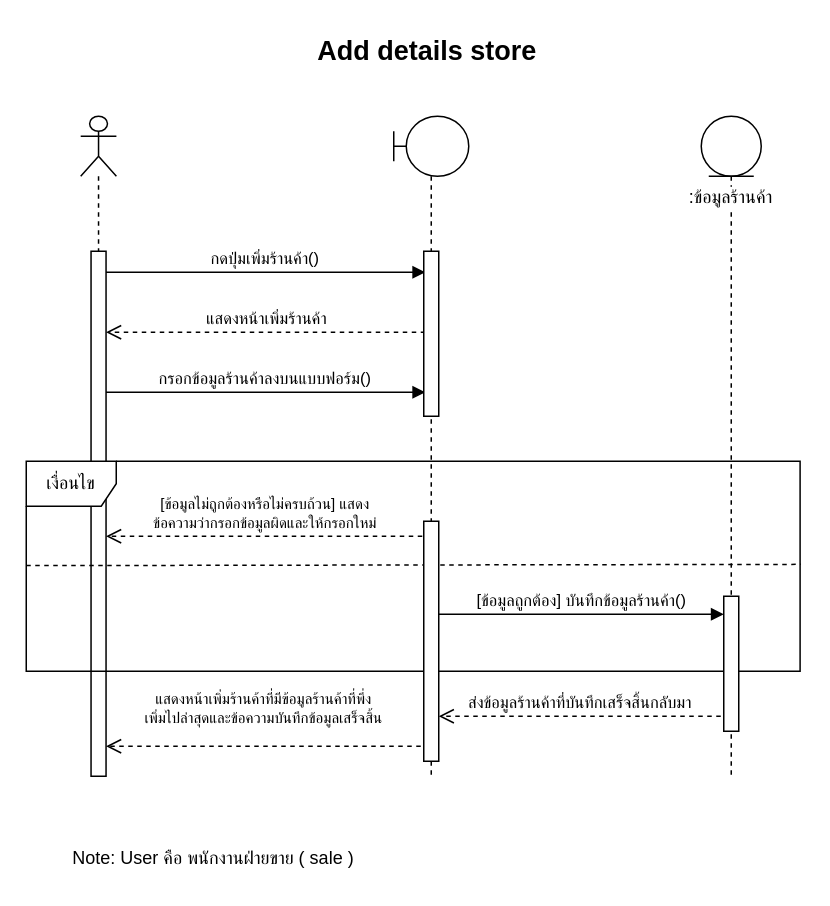
This 830x906 diagram has some shape labels left out. The shapes that lost their labels are listed below. From the top down, each one's box as (x1, y1, x2, y2) in pixels, then its label:
(79, 115, 116, 776): User
(392, 115, 469, 776): :หน้าเพิ่มร้านค้า
